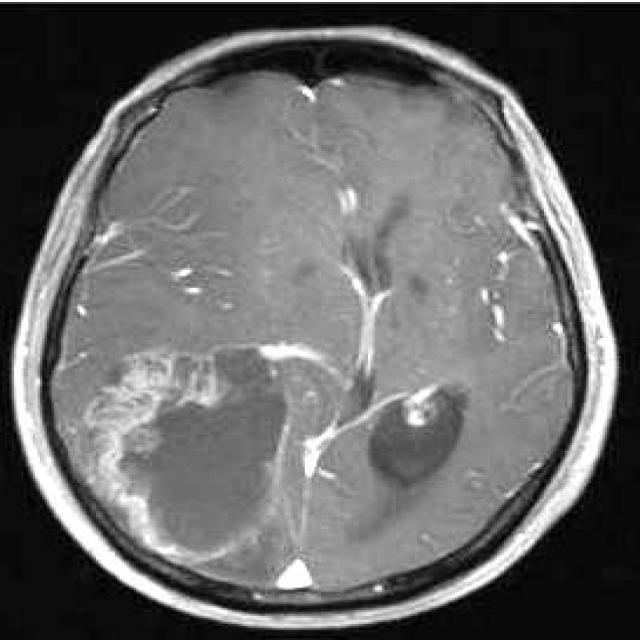tumor: (70, 350, 288, 568), (368, 382, 471, 491)
